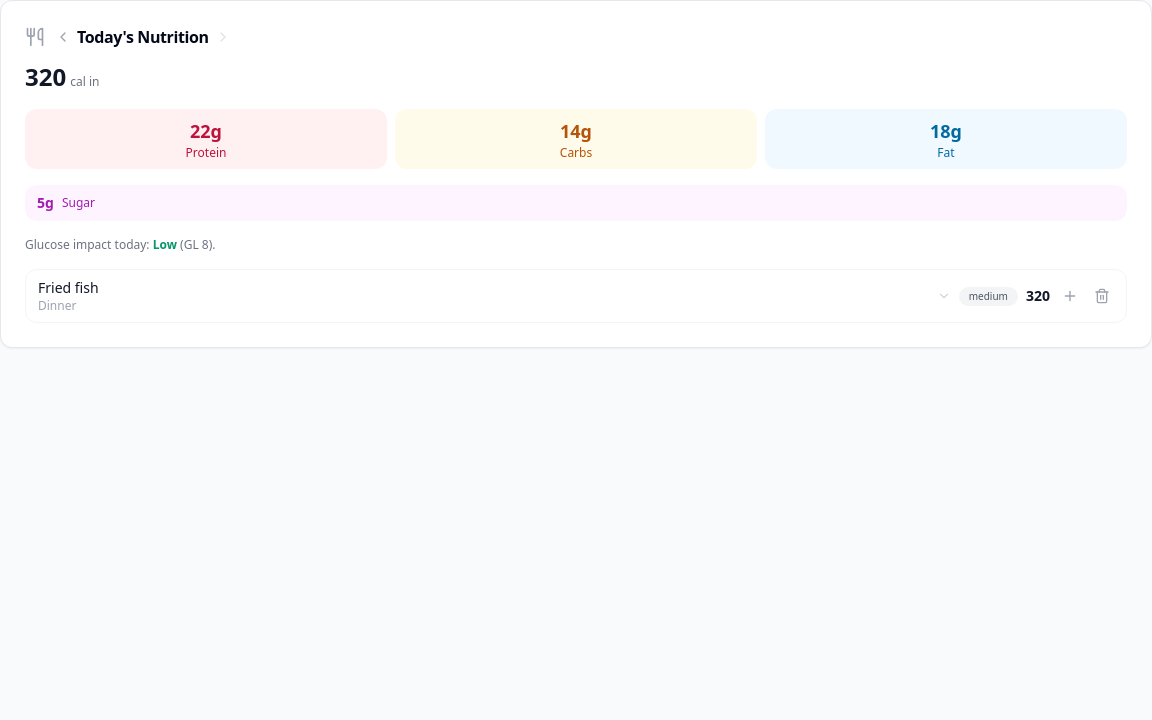
NutritionCard — meal stats › expands a tapped meal to show calories, macros, and sugar
Check: the text "Fried fish" is shown, box [38,278,99,297]
Check: the text "logged at" is not shown
Click the button with aria-label "show stats for fried fish": (68, 288) [38,278,951,314]
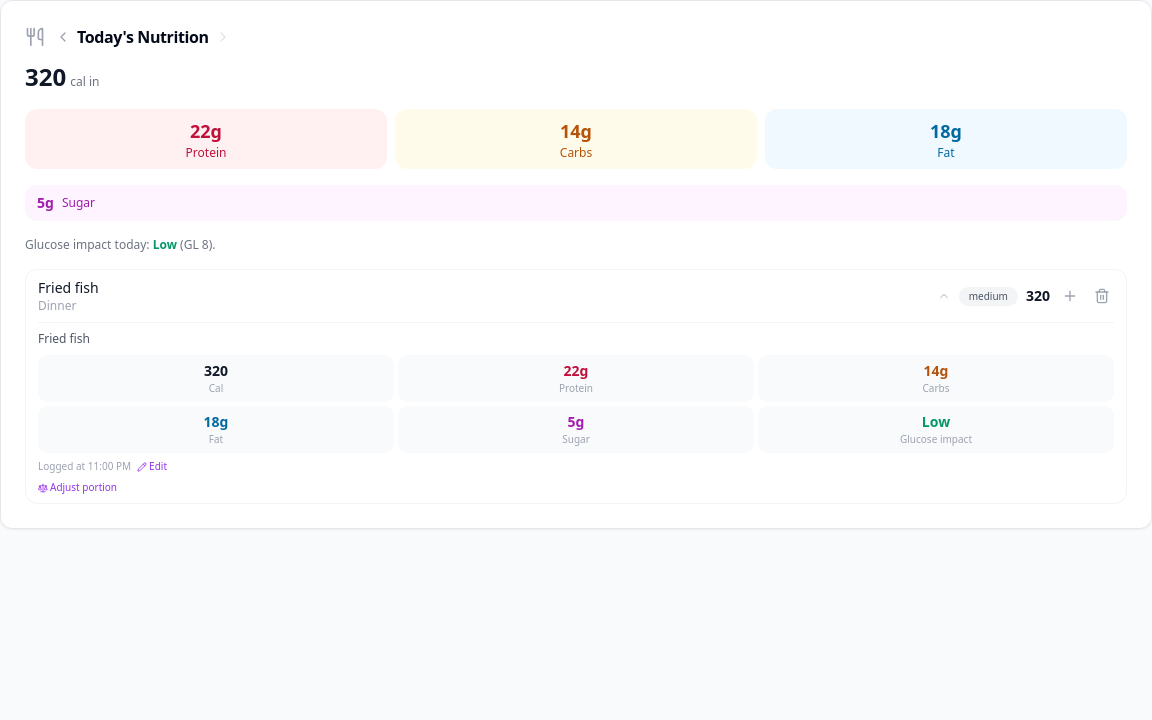
Check: the text "22g" below "medium" is shown, box [564,361,588,380]
Check: the text "14g" below "medium" is shown, box [924,361,948,380]
Check: the 2nd text "18g" is shown, box [204,412,228,431]
# Tapping again collapses it.
Click the button with aria-label "show stats for fried fish": (68, 288) [38,278,951,314]
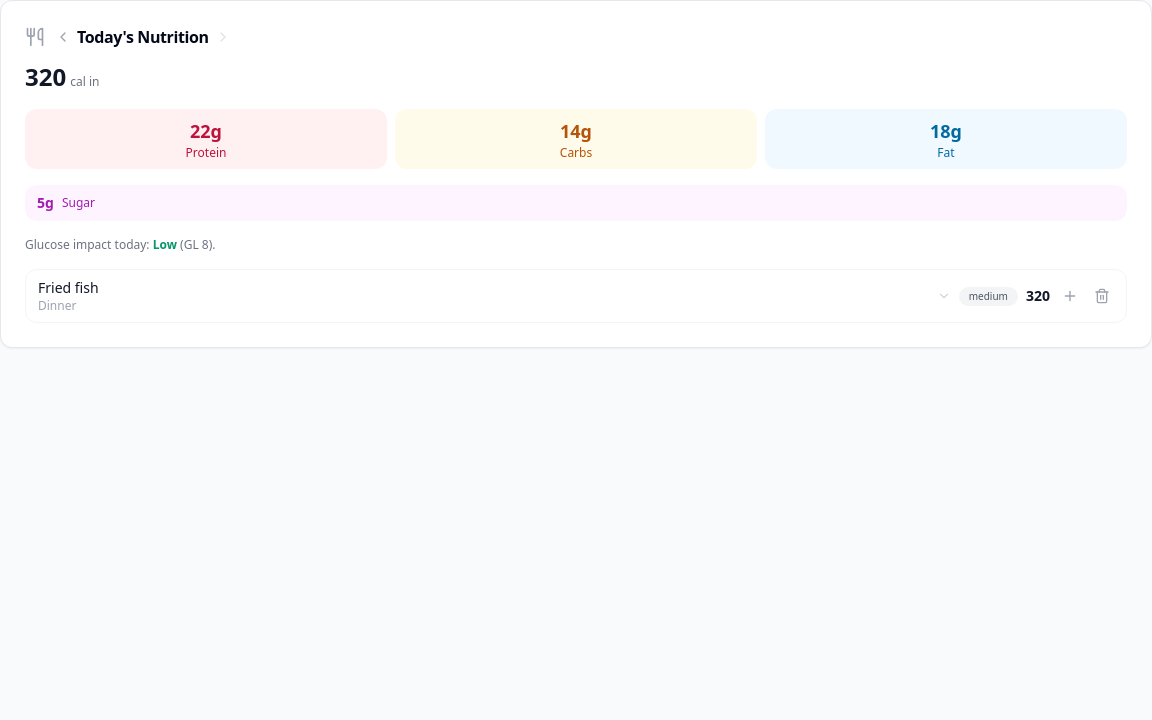
Check: the text "Logged at" is gone
